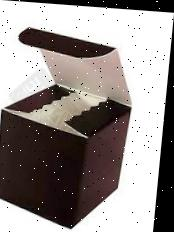cube: (0, 79, 132, 231)
